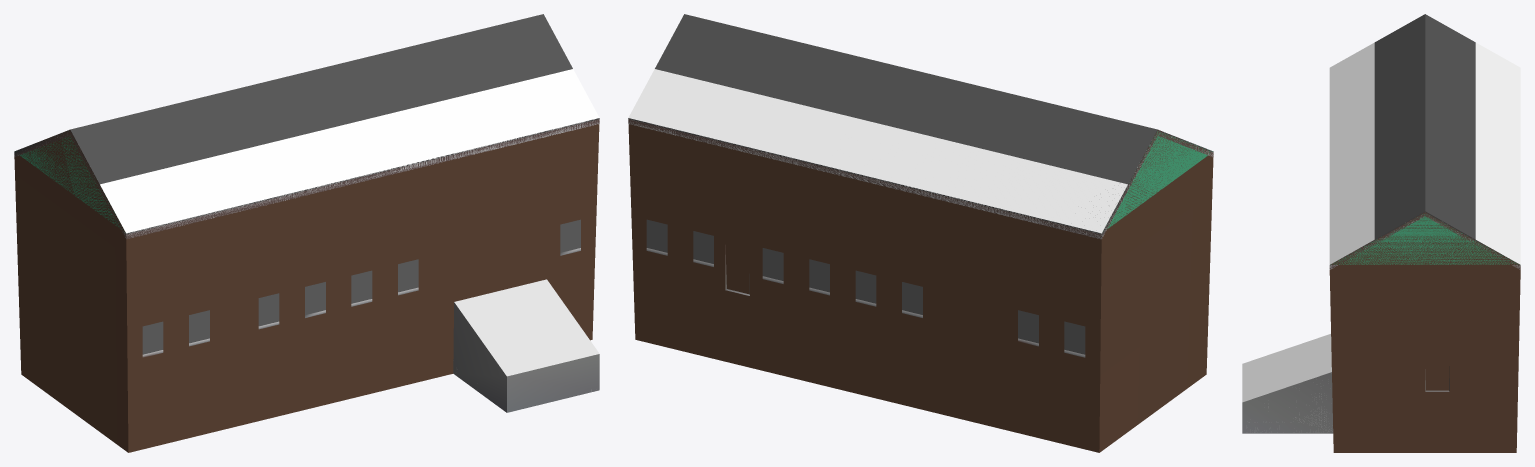
Rendered from eca_bld_warehouse_02_a.dae.
3 renders of one model, left to right at view 1: azimuth 30°, elevation 25°; view 2: azimuth 150°, elevation 25°; view 3: azimuth 270°, elevation 25°, orthographic. The views are drawn at different scales.
Visible parts, largest first — view 1: ind_bld_a60, ind_bld_a650, ind_bld_a120, Colmesh-1; view 2: ind_bld_a60, ind_bld_a650, ind_bld_a120, Colmesh-1; view 3: ind_bld_a60, ind_bld_a650, ind_bld_a120, Colmesh-1.
Part boxes in pixels (bbox=[...]): ind_bld_a60: bbox=[14, 14, 599, 452]; ind_bld_a650: bbox=[14, 69, 599, 391]; ind_bld_a120: bbox=[14, 118, 599, 412]; Colmesh-1: bbox=[15, 136, 125, 232]; ind_bld_a60: bbox=[628, 14, 1213, 452]; ind_bld_a650: bbox=[628, 69, 1213, 238]; ind_bld_a120: bbox=[628, 118, 1213, 357]; Colmesh-1: bbox=[1105, 131, 1212, 229]; ind_bld_a60: bbox=[1329, 14, 1520, 452]; ind_bld_a650: bbox=[1242, 42, 1520, 432]; ind_bld_a120: bbox=[1242, 211, 1520, 433]; Colmesh-1: bbox=[1331, 214, 1517, 264].
Size of the model in its own units: 20.4 by 12.18 by 11.75.
